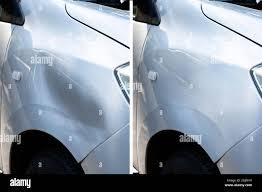dent: (28, 54, 112, 138)
